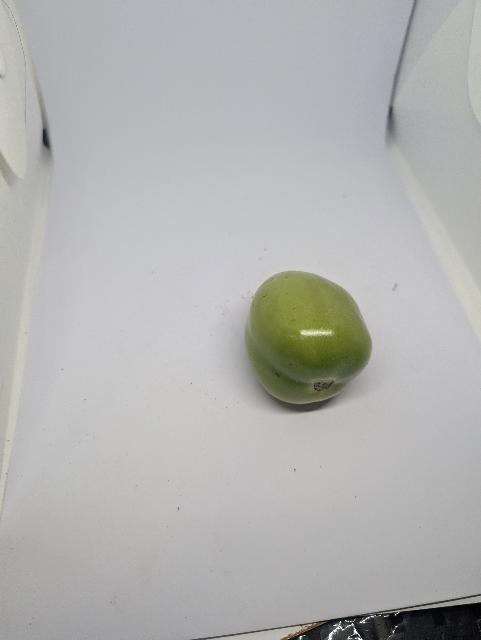green: (234, 261, 384, 423)
